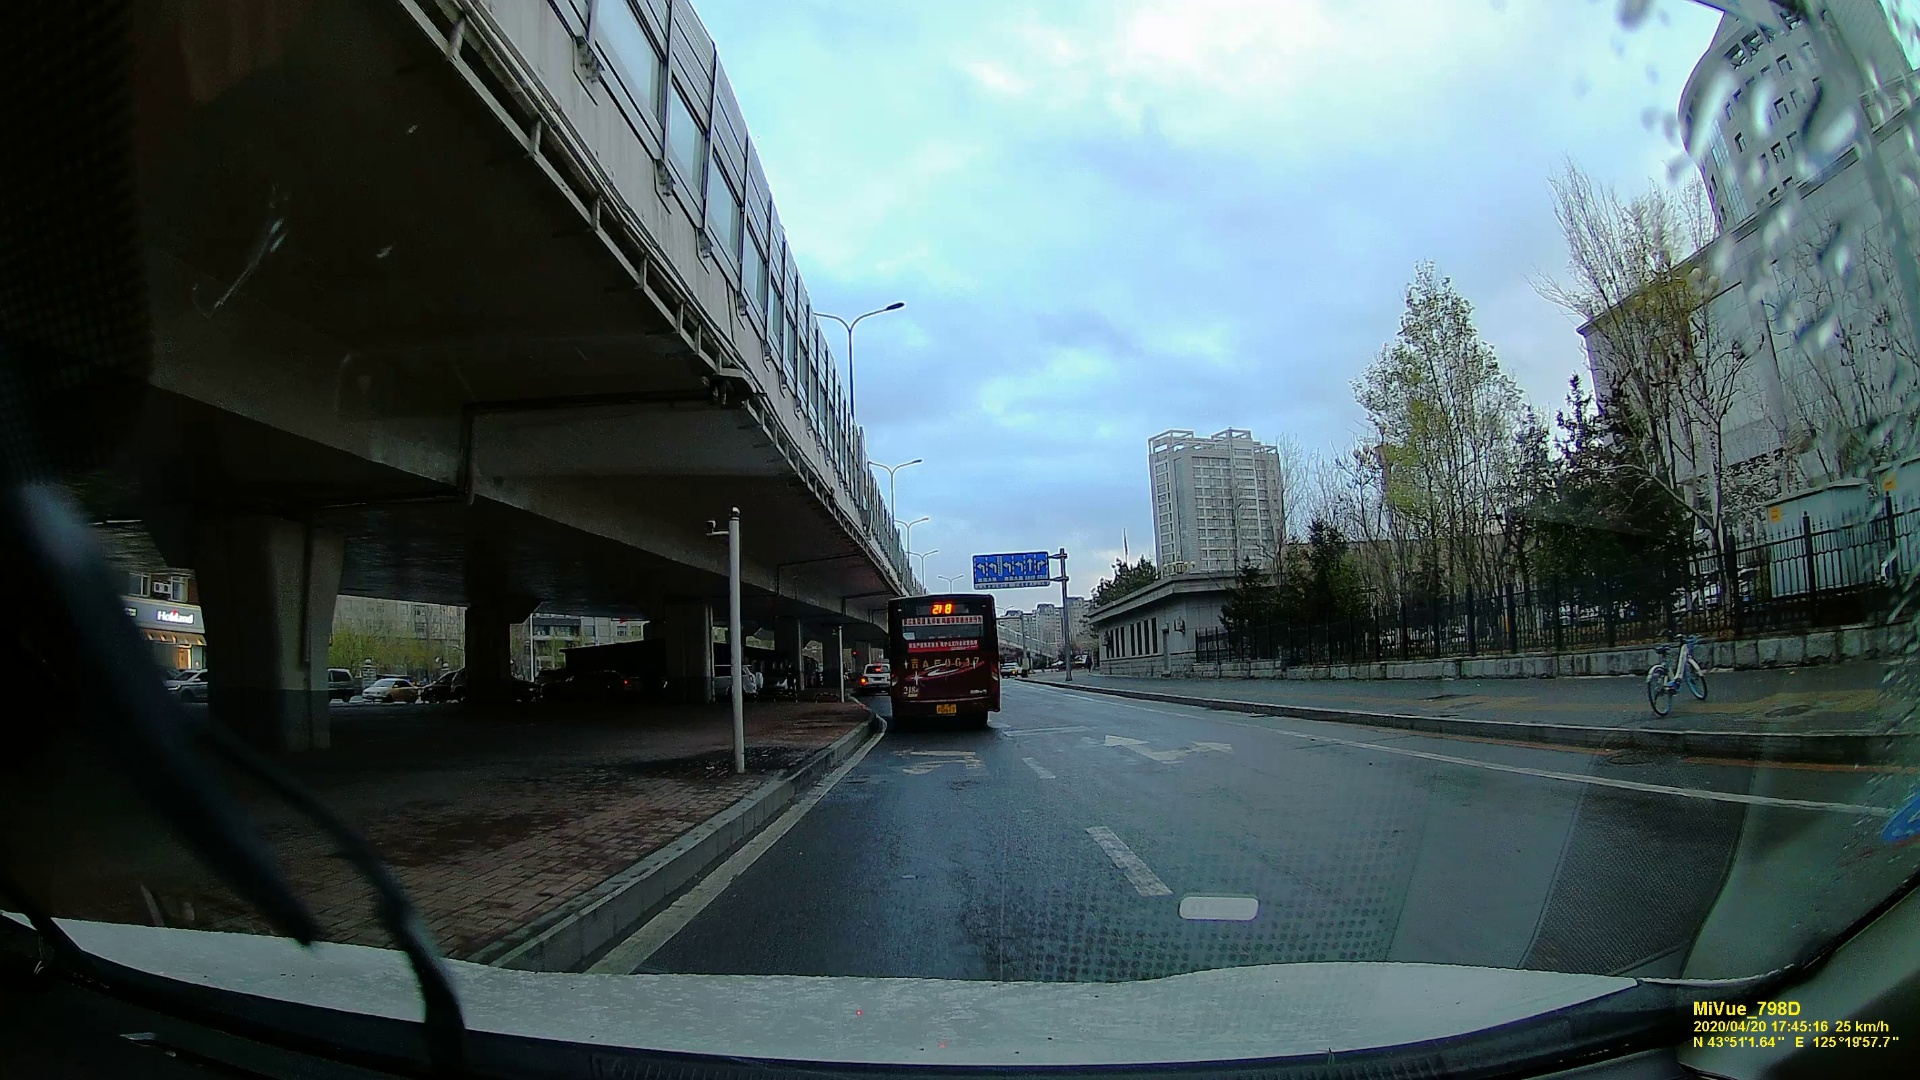bus: (886, 591, 997, 728)
traffic_sign: (973, 554, 1044, 584)
vehicle: (361, 679, 414, 703), (862, 662, 889, 687)
